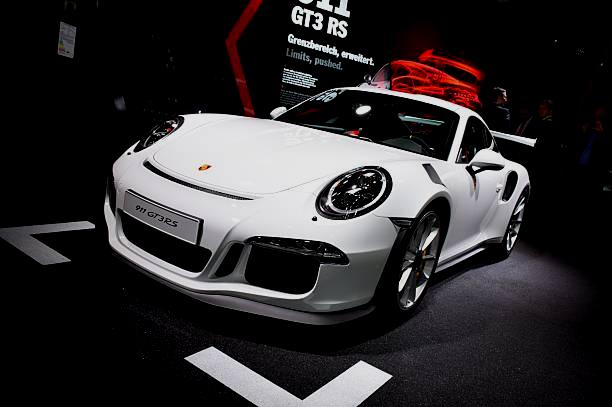porsche: (193, 158, 217, 175)
